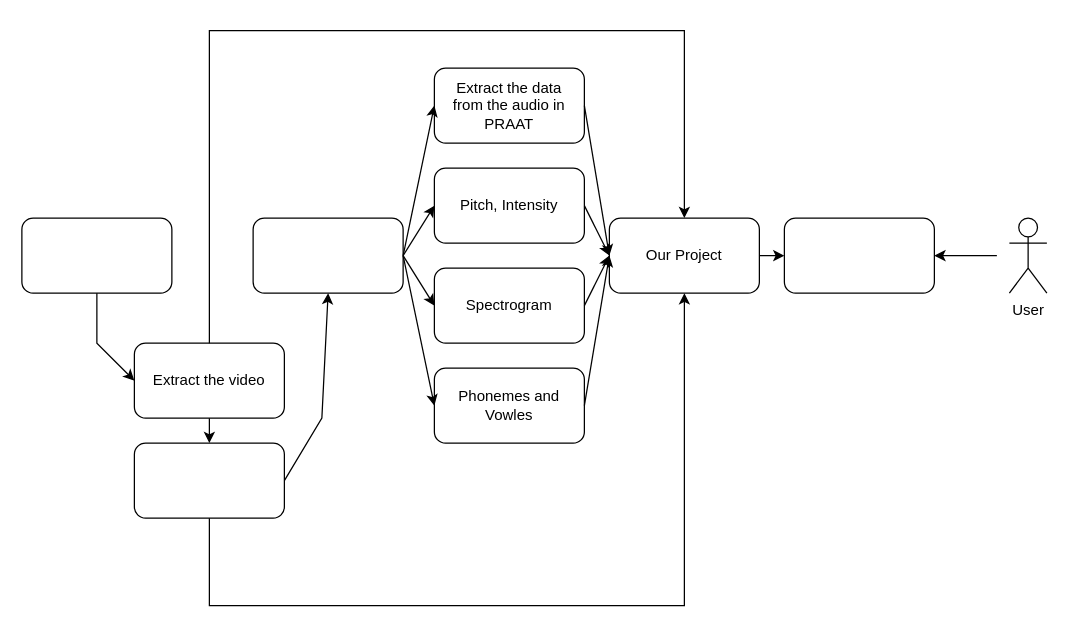
This 1069x638 diagram has some shape labels left out. The shapes that lost their labels are listed below. From the top down, each one's box as (x1, y1, x2, y2) in pixels, then its label:
(21, 217, 172, 293): Youtube
(252, 217, 403, 293): PRAAT
(783, 217, 934, 293): UI/UX Front End Project with responsive widgets
(133, 442, 284, 518): Extract the audio from the video
